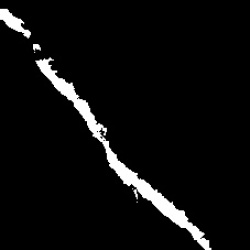crack: (2, 9, 211, 248)
